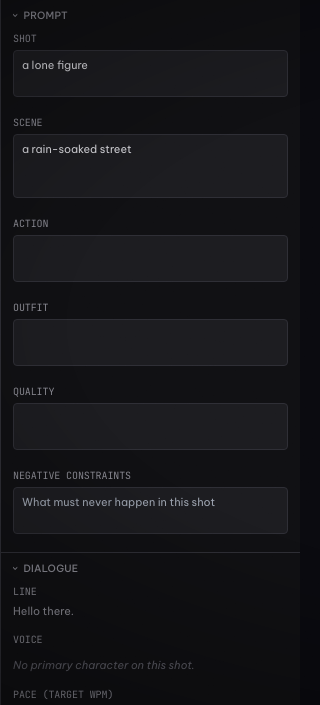
ShotInspector -- truthful persistShot (sibling of PromptEditor.handleSave) › a rejected free-text commit surfaces an error but keeps the operator's unsaved keystrokes
This screenshot has width=320, height=705.
In the text box with placeholder "What must never happen in this shot": [150, 510] box [13,486,288,534], type "no extra limbs"
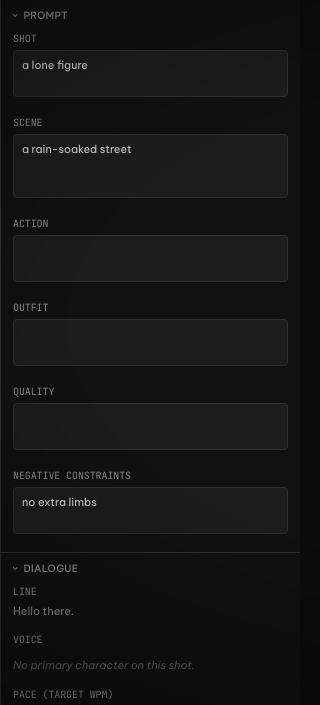
Leave the text box with placeholder "What must never happen in this shot" below "Negative constraints", box [13,486,288,534]
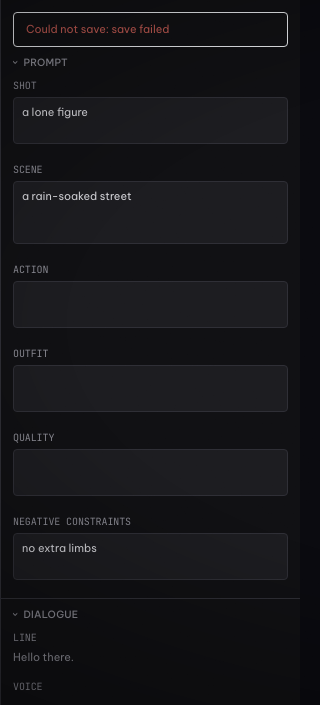
Expected: the message shows "save failed", [26,22,170,36]
